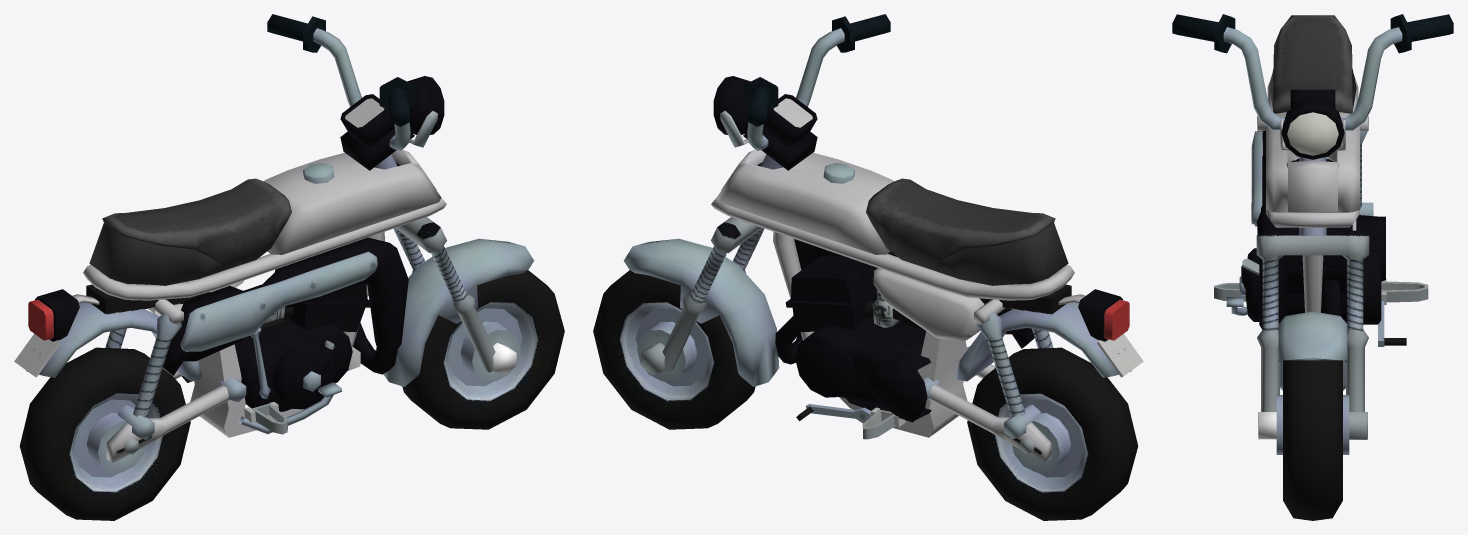
3 views of the same model, side by side, from view 1: azimuth 30°, elevation 25°; view 2: azimuth 150°, elevation 25°; view 3: azimuth 270°, elevation 25° (orthographic). The views are drawn at different scales.
Parts seen in each view (by area): view 1: SM_SuzukiPV; view 2: SM_SuzukiPV; view 3: SM_SuzukiPV.
Boxes of the visible parts, x1,y1,x2,y2 form: SM_SuzukiPV: (14, 14, 564, 520); SM_SuzukiPV: (593, 14, 1143, 520); SM_SuzukiPV: (1172, 14, 1453, 520).
Bounding box in the file's own units: 1.63 × 1.19 × 0.6991.
1 material, 1 textured.
